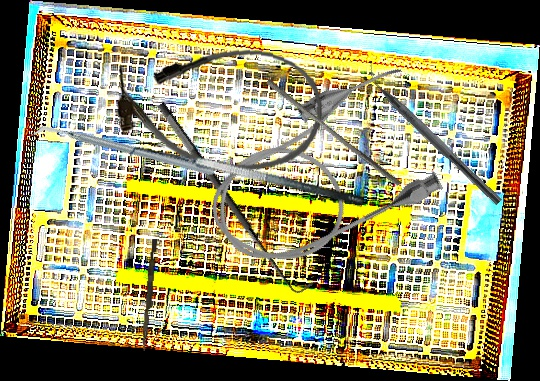Cannula: (184, 54, 460, 292), (109, 37, 329, 179)
Chopper: (29, 64, 217, 239), (357, 60, 511, 206)
Hook Surgical: (154, 91, 315, 301)
Pusher: (262, 78, 405, 187), (141, 238, 158, 352)
Spatula Surgical: (127, 134, 365, 227)
